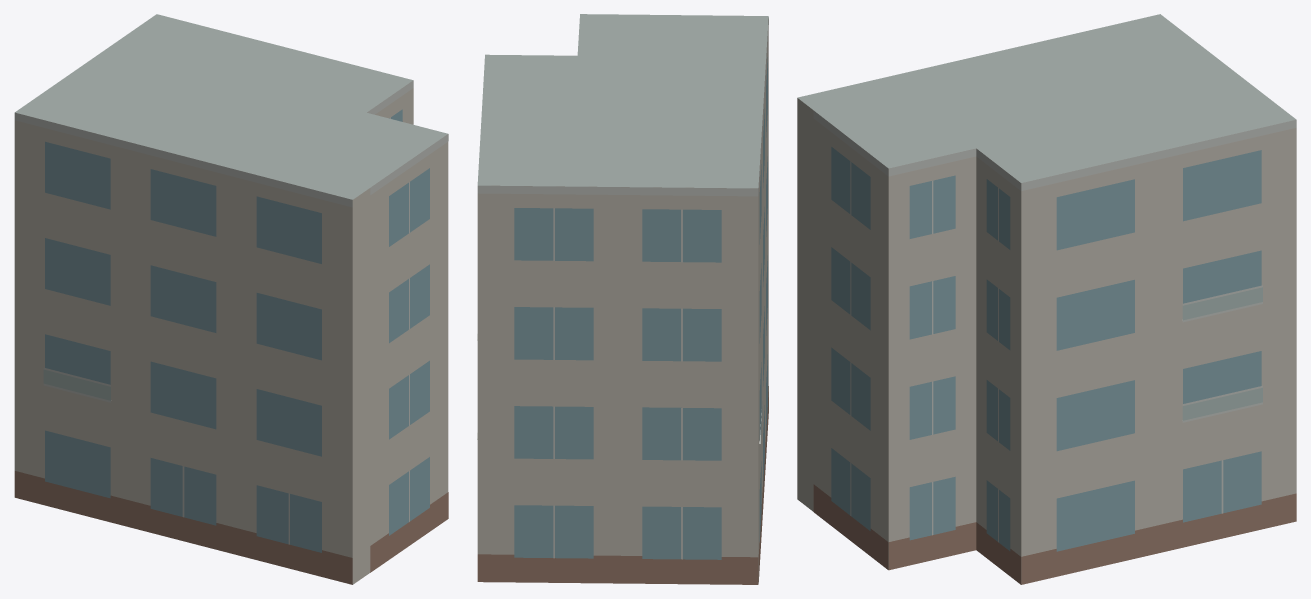
Rendered from residential-47b5d185-7af4-4530-8742-46e1efb33aab.glb.
The picture shows the model from 3 angles, left to right: view 1: azimuth 30°, elevation 25°; view 2: azimuth 150°, elevation 25°; view 3: azimuth 270°, elevation 25°; orthographic projection. The views are drawn at different scales.
Visible parts, largest first — view 1: residential-47b5d185-7af4-4530-8742-46e1efb33aab.tmp; view 2: residential-47b5d185-7af4-4530-8742-46e1efb33aab.tmp; view 3: residential-47b5d185-7af4-4530-8742-46e1efb33aab.tmp.
Part boxes in pixels (x1,y1,x2,y2): residential-47b5d185-7af4-4530-8742-46e1efb33aab.tmp: (14, 14, 448, 584); residential-47b5d185-7af4-4530-8742-46e1efb33aab.tmp: (477, 14, 768, 584); residential-47b5d185-7af4-4530-8742-46e1efb33aab.tmp: (797, 14, 1296, 584).
Size of the model in its own units: 11.03 by 12.2 by 13.76.
